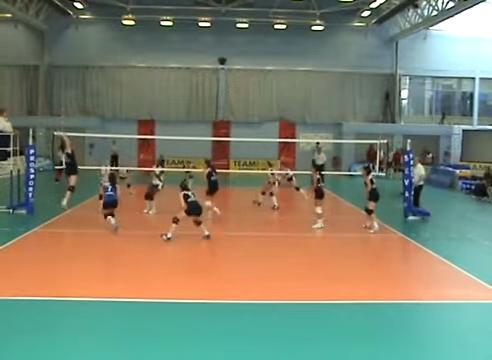attacco: (56, 133, 88, 211)
